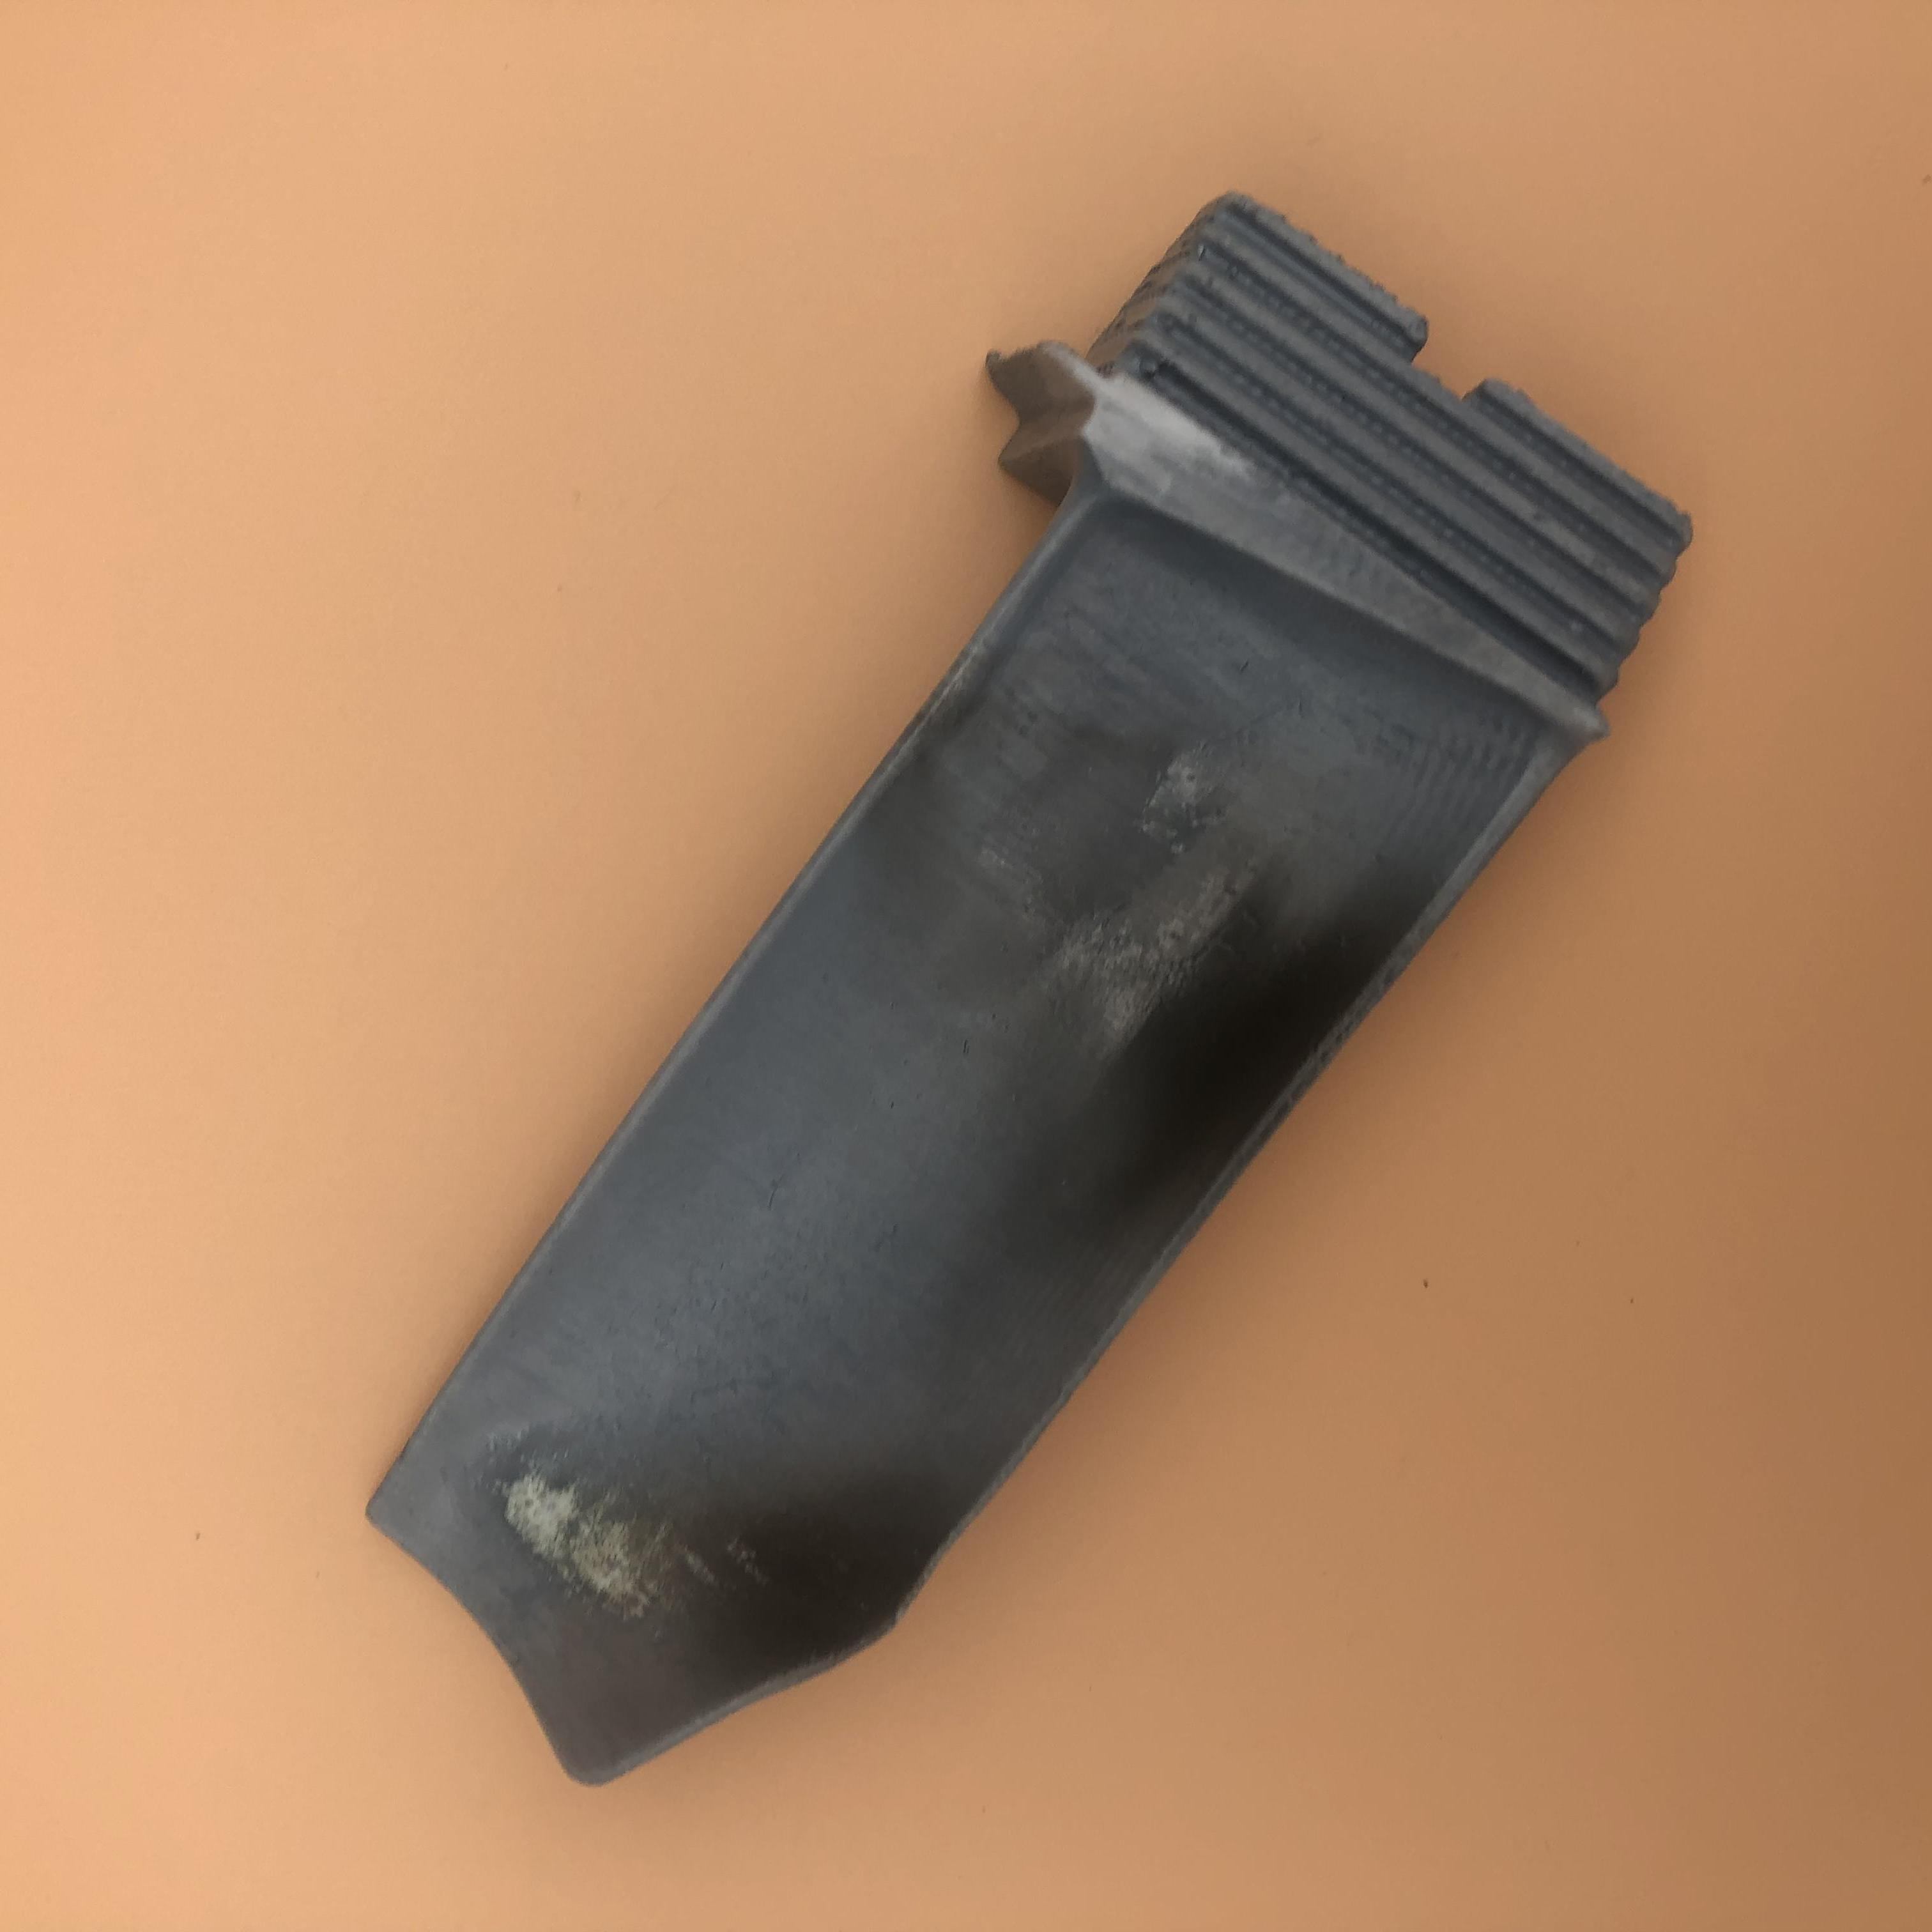ablation: (911, 727, 1415, 1212), (483, 1438, 959, 1656)
